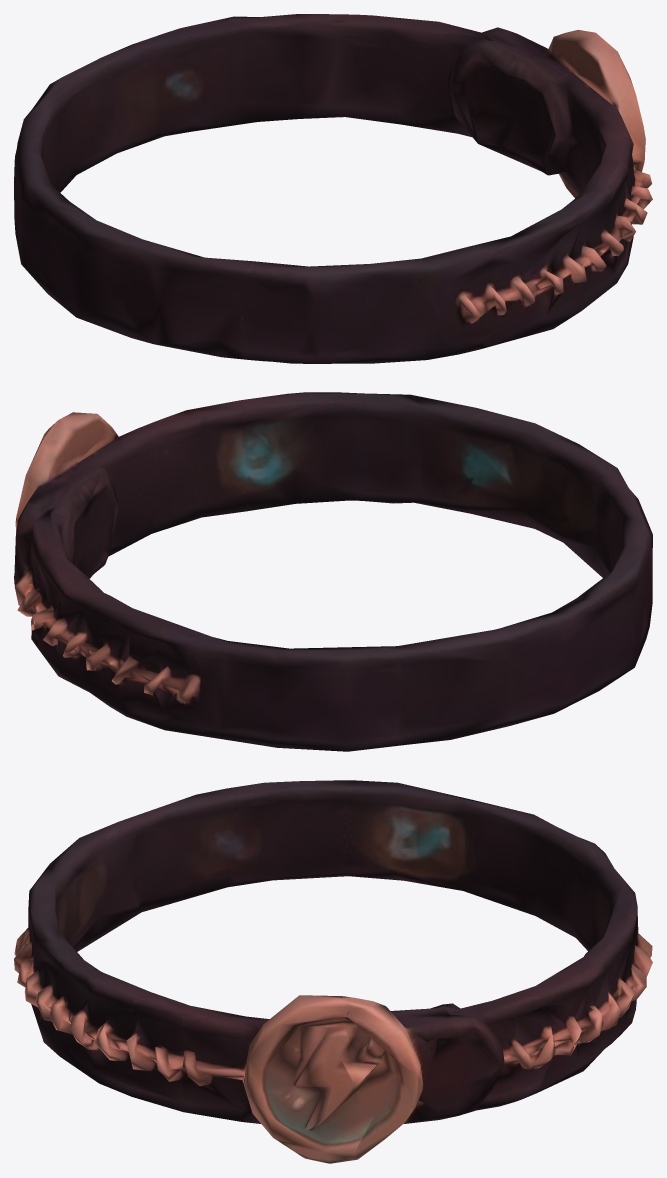
The model's file is uq_belt_conductor-AnKI1wZK.glb.
3 renders of one model, top to bottom at view 1: azimuth 30°, elevation 25°; view 2: azimuth 150°, elevation 25°; view 3: azimuth 270°, elevation 25°, orthographic. The views are drawn at different scales.
Parts seen in each view (by area): view 1: tripo_node_ad680957-2830-4679-8199-9c5e0f1369f7; view 2: tripo_node_ad680957-2830-4679-8199-9c5e0f1369f7; view 3: tripo_node_ad680957-2830-4679-8199-9c5e0f1369f7.
Part boxes in pixels (x1=…): tripo_node_ad680957-2830-4679-8199-9c5e0f1369f7: x1=14, y1=14, x2=652, y2=363; tripo_node_ad680957-2830-4679-8199-9c5e0f1369f7: x1=14, y1=392, x2=652, y2=751; tripo_node_ad680957-2830-4679-8199-9c5e0f1369f7: x1=14, y1=780, x2=652, y2=1163.
Size of the model in its own units: 0.9906 by 0.2829 by 1.
Materials: 1 (1 with a texture image).
